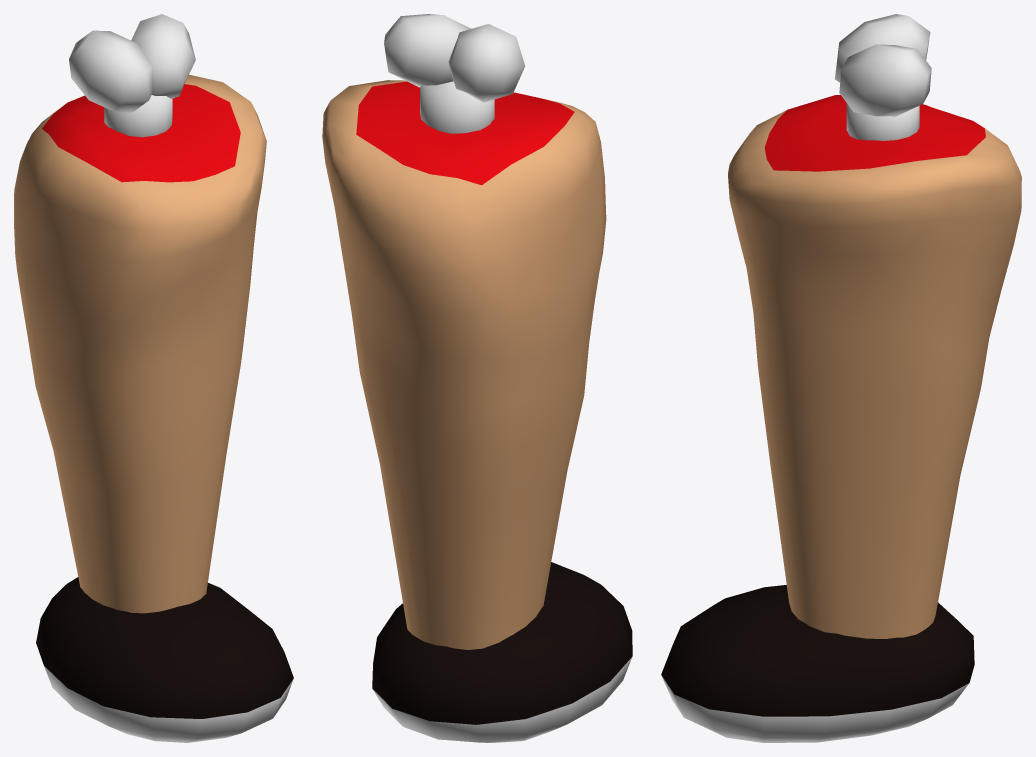
The model's file is Leg.fbx.
3 renders of one model, left to right at view 1: azimuth 30°, elevation 25°; view 2: azimuth 150°, elevation 25°; view 3: azimuth 270°, elevation 25°, orthographic. The views are drawn at different scales.
Parts seen in each view (by area): view 1: Foot; view 2: Foot; view 3: Foot.
Boxes of the visible parts, box(x1,y1,x2,y2) form: Foot: box(14, 14, 293, 742); Foot: box(322, 14, 632, 742); Foot: box(661, 14, 1021, 742).
Bounding box in the file's own units: 20.5 × 58.32 × 27.84.
